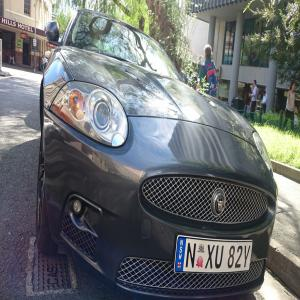Vehicle-registration-plate: (172, 235, 253, 277)
